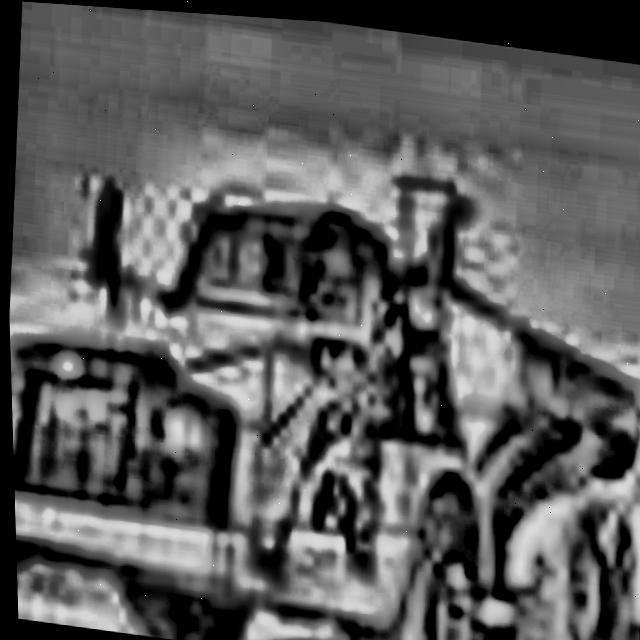dump_truck: (3, 117, 640, 640)
